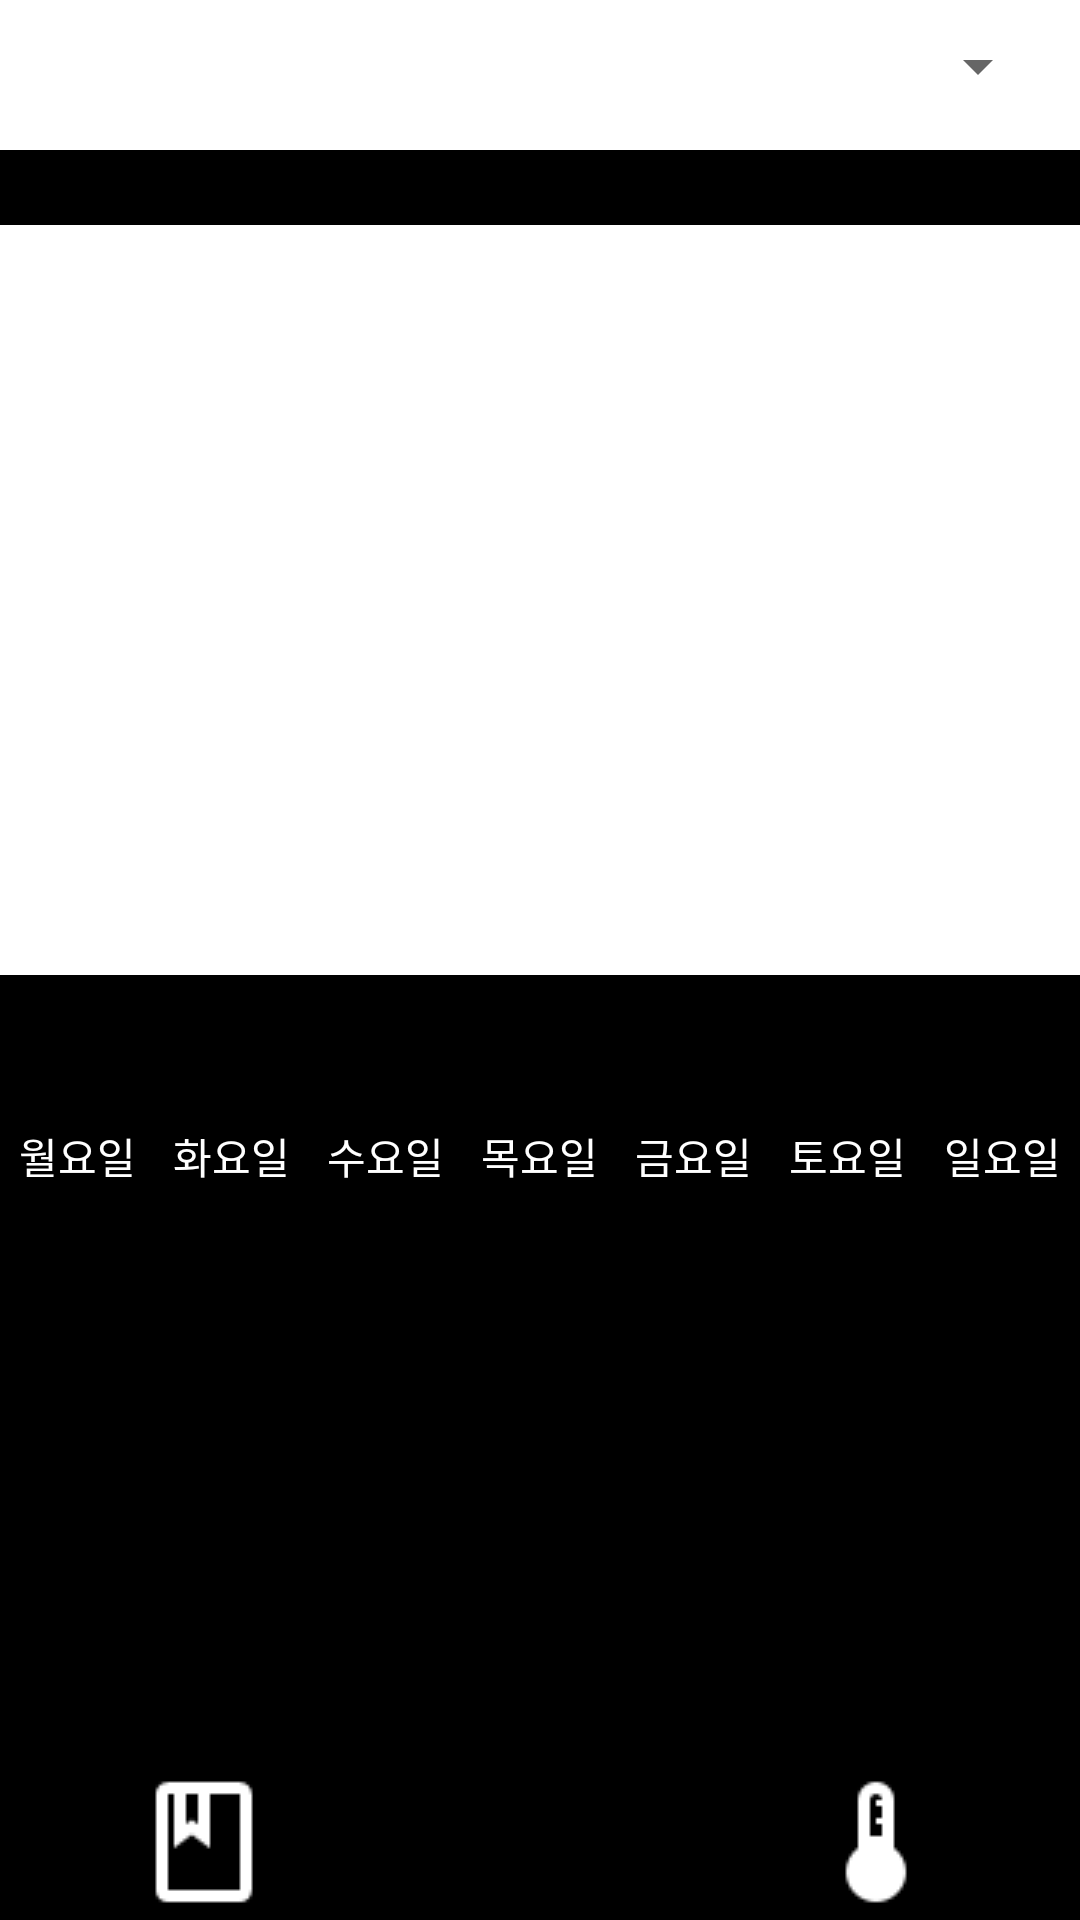

Icons on this 1080×1920 Android screen, each with the point to tap as point (x, y):
book: point (204, 1842)
thermostat: point (876, 1842)
